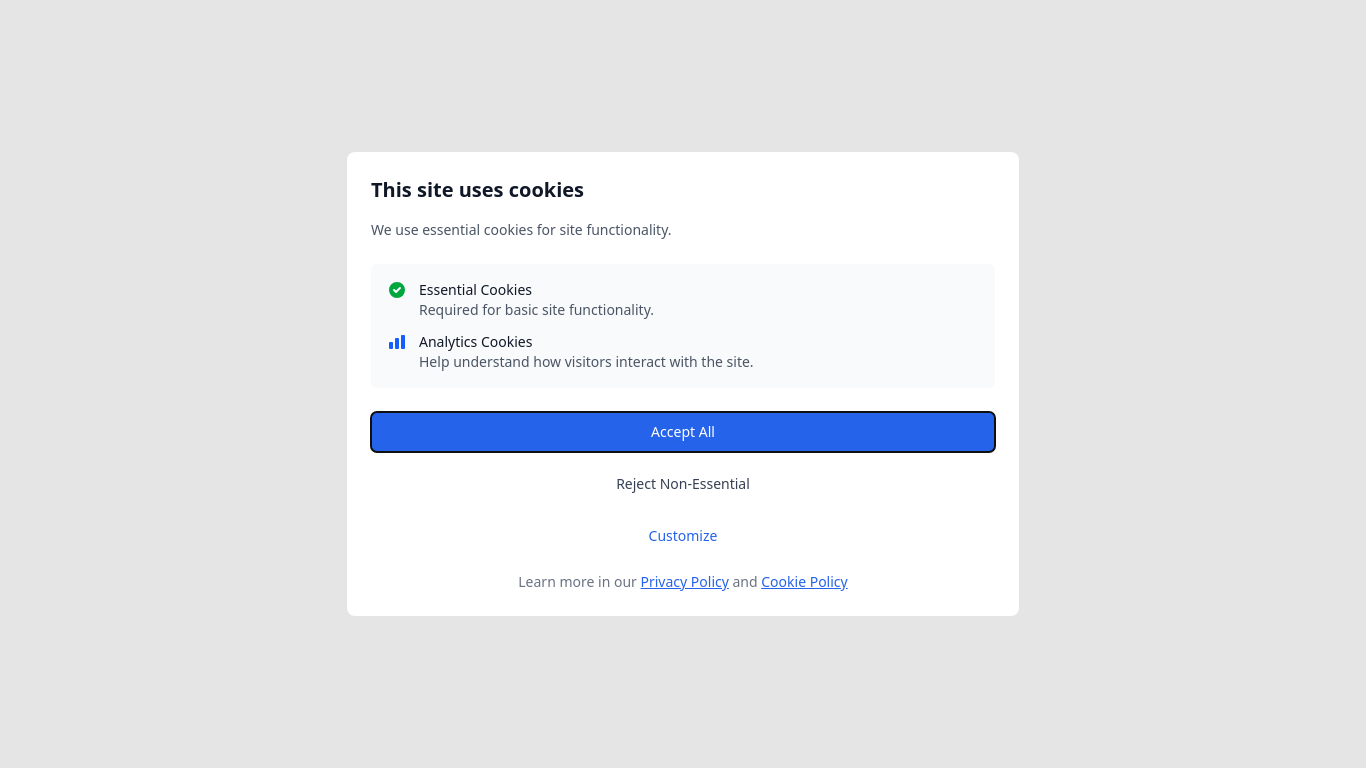
Test: CookieConsent › Edge cases › should initialize customize view with current preferences
What coordinates should you click on to do the following:
click the button "Customize"
I would click on:
 (683, 536)
Its box is [371, 516, 995, 556].
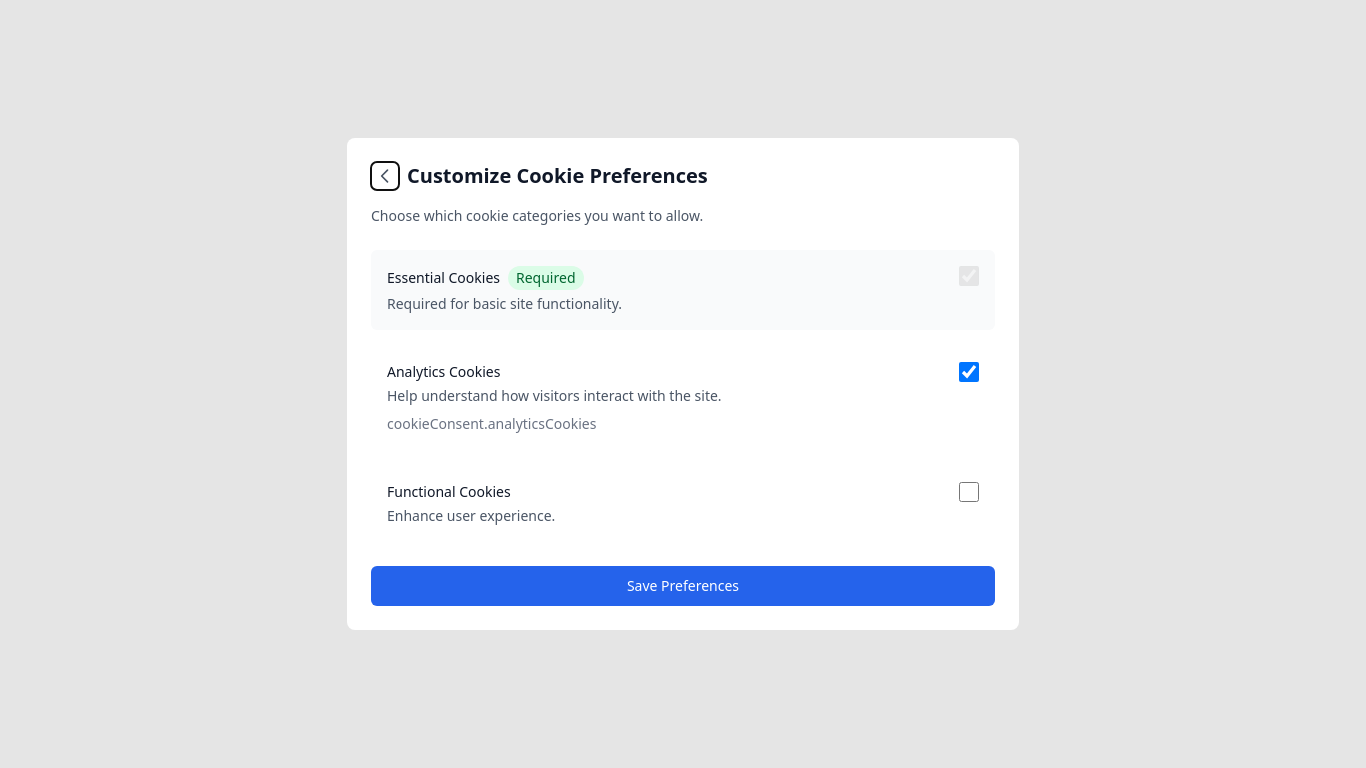
Result: the checkbox named "Analytics Cookies" is checked at [959, 362, 979, 382]
